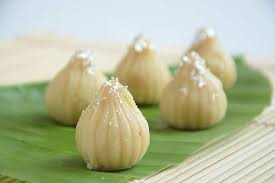modak: (155, 47, 243, 140), (82, 73, 153, 172), (42, 50, 118, 118)
